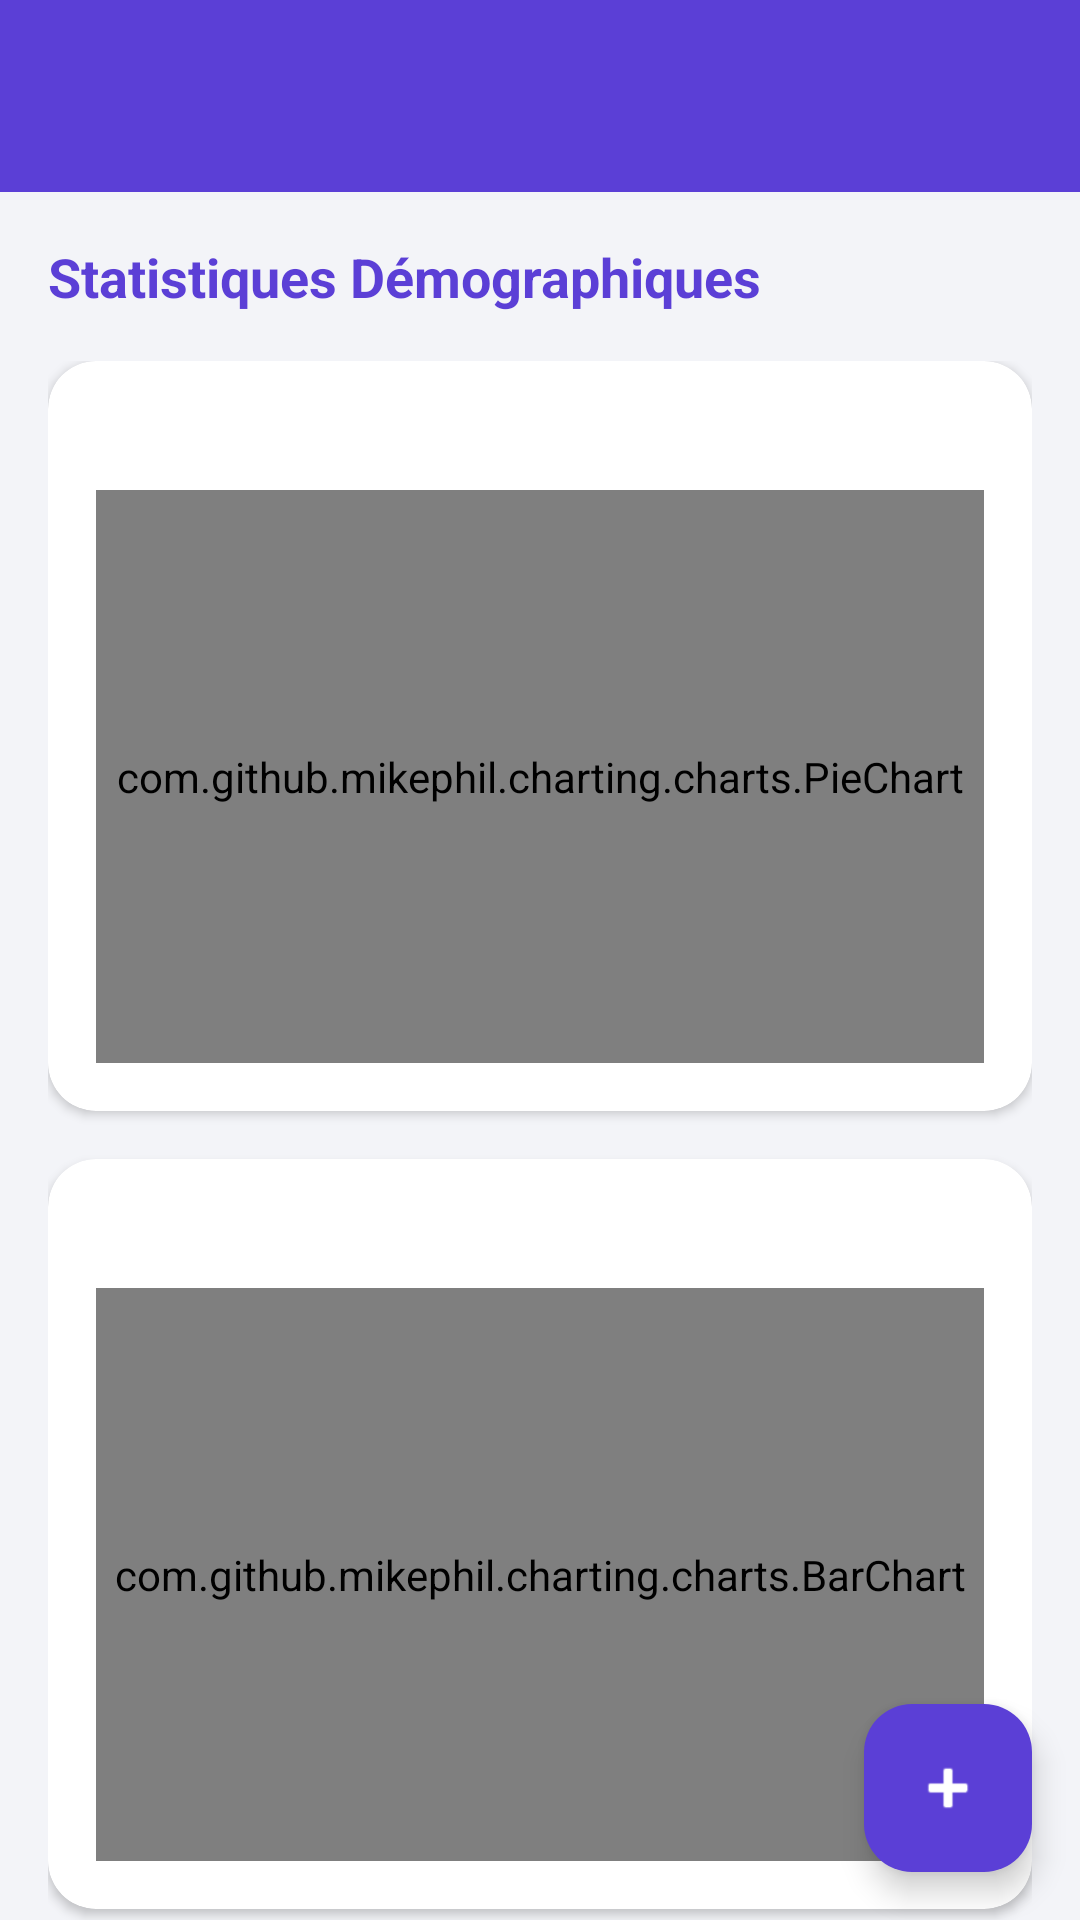

Icon click points for this 1080px×1920px phone screenshot, format (x,y):
Ajouter utilisateur: (948,1788)
